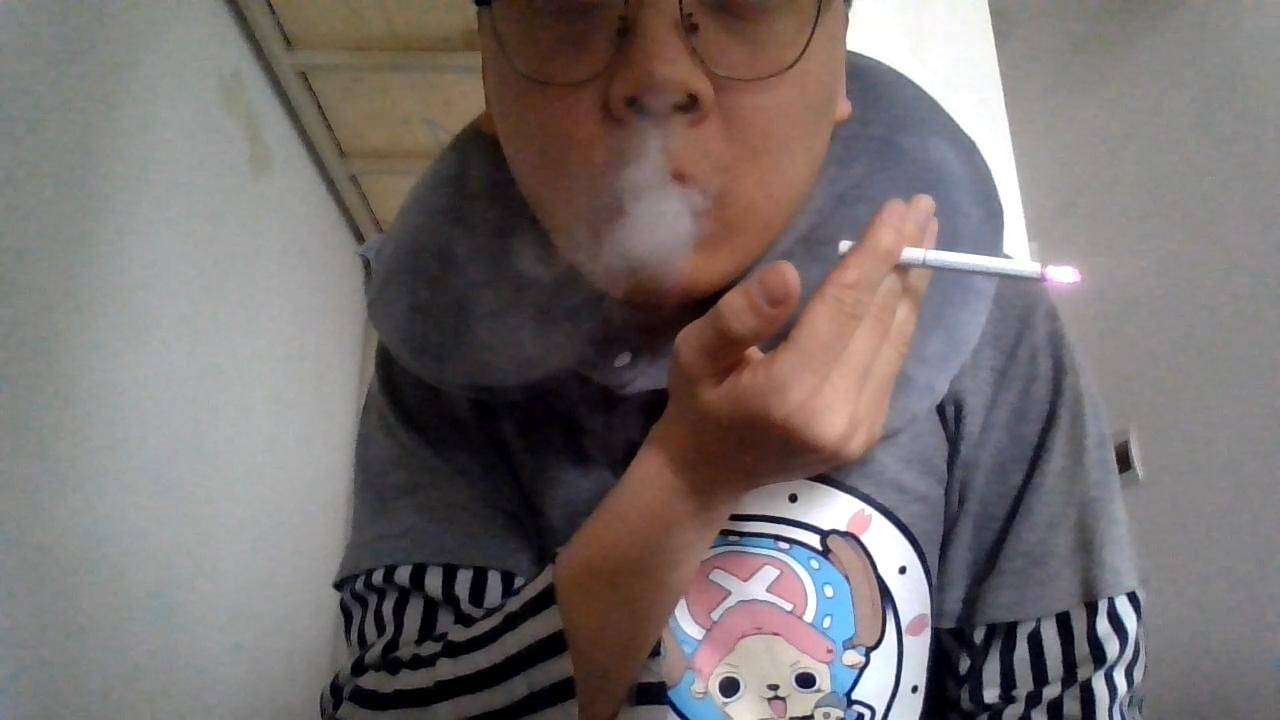yanwu: (591, 132, 692, 274), (452, 255, 563, 379)
